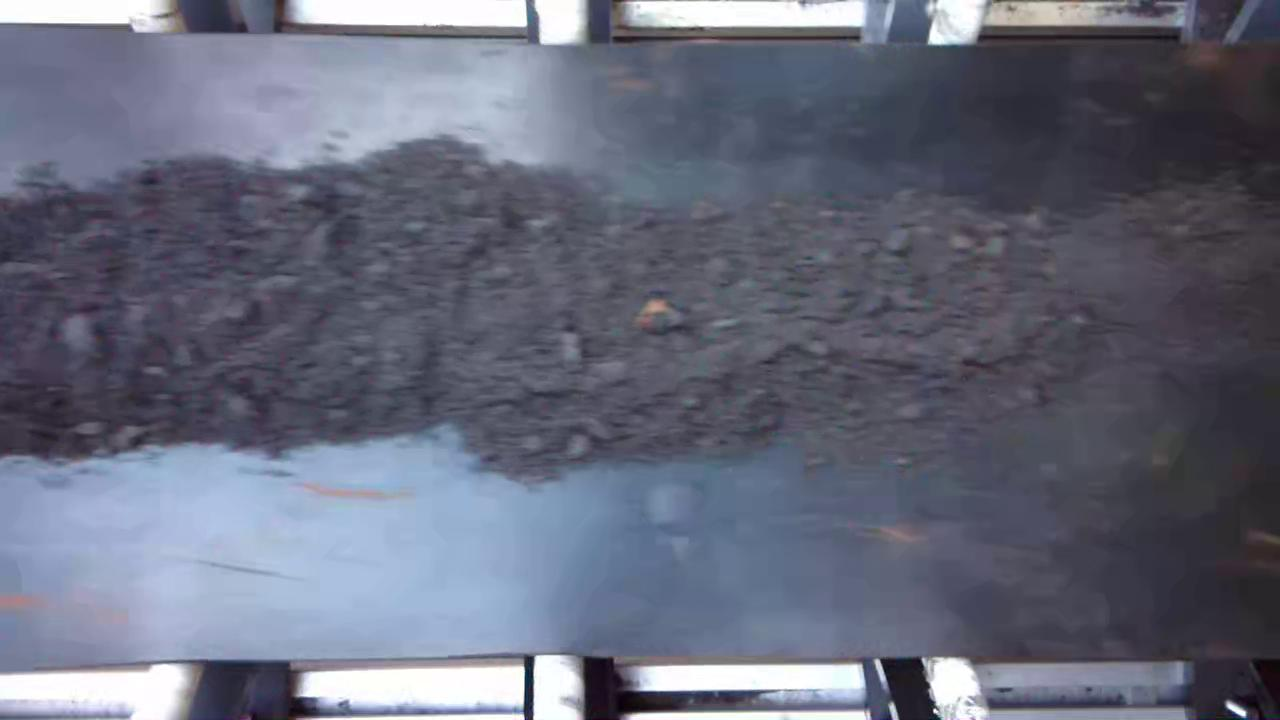conveyor: (0, 44, 1278, 646)
